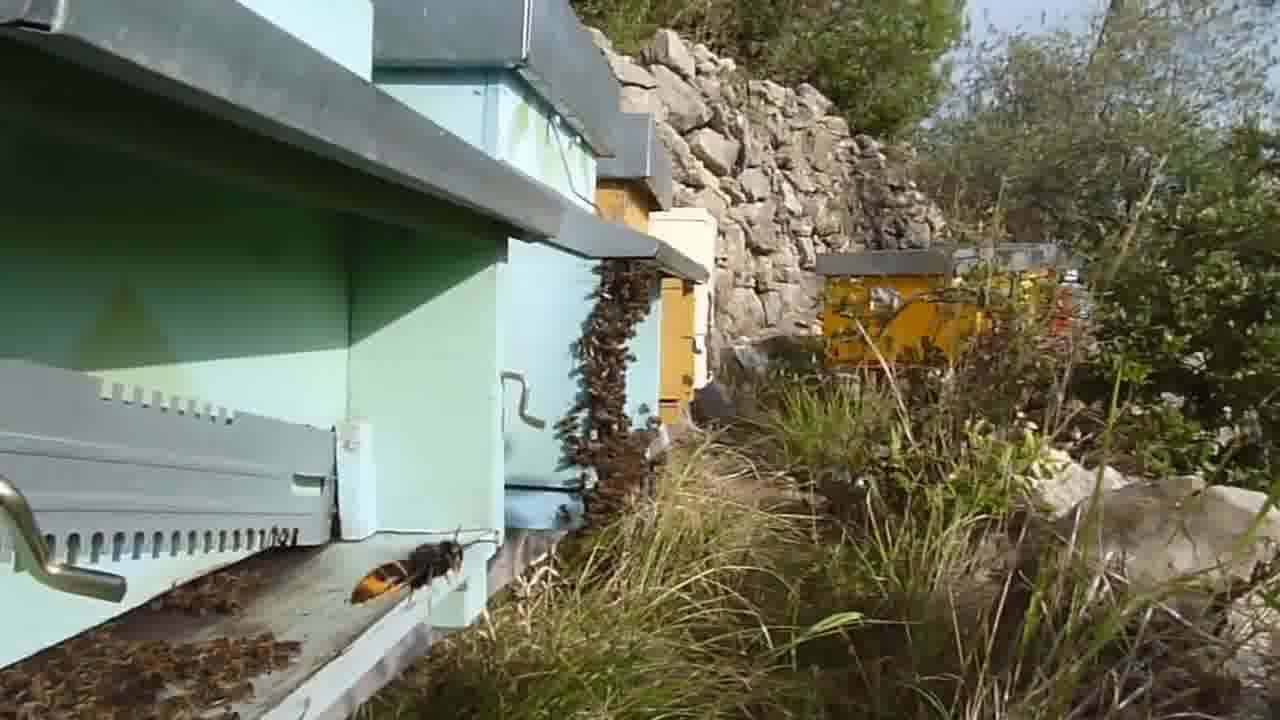bee: (143, 640, 301, 708), (555, 419, 653, 527), (1, 661, 136, 720), (576, 325, 642, 417), (165, 567, 253, 618), (591, 263, 652, 329)
hornet: (343, 529, 473, 605)
